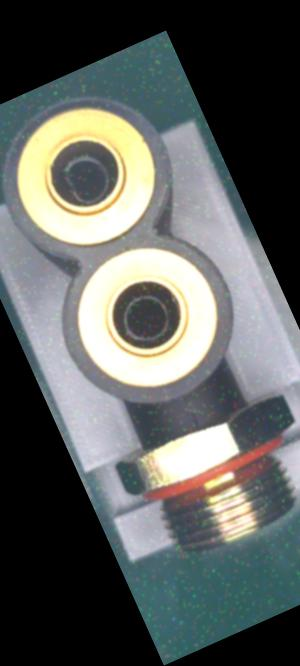craze: (182, 406, 206, 438)
off-centered: (49, 144, 123, 216), (109, 280, 181, 353)
